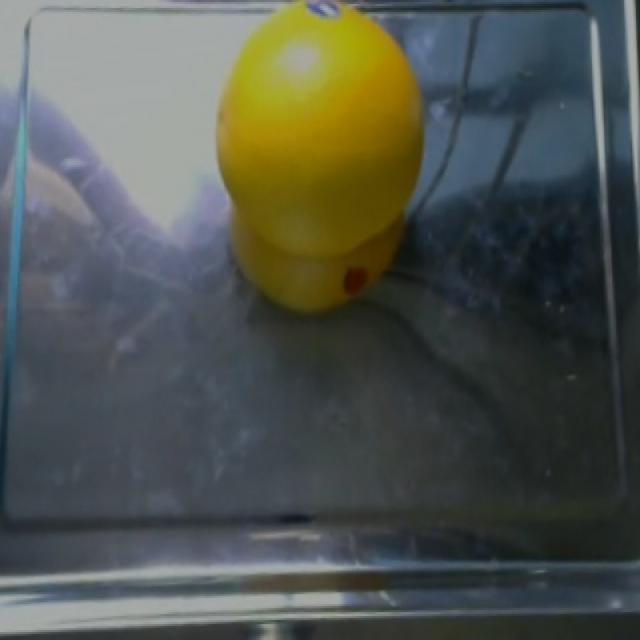Fruit: (200, 2, 431, 328)
